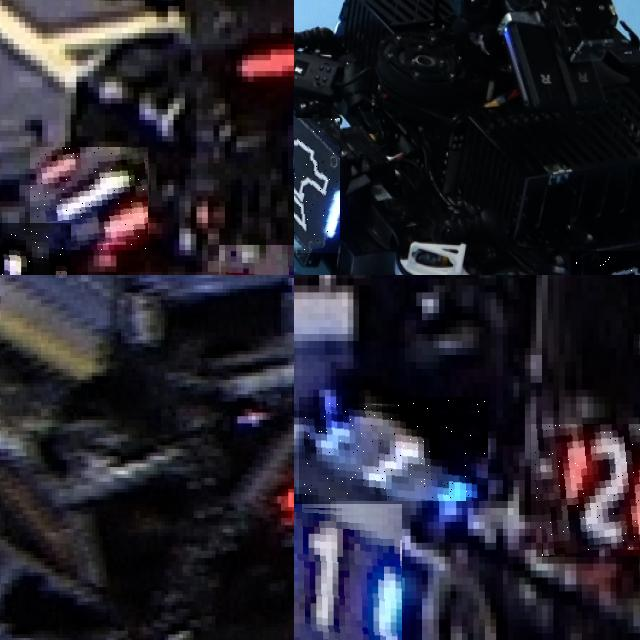B1: (299, 397, 488, 501), (294, 504, 401, 640)
Bs: (294, 118, 340, 253)
R1: (31, 147, 150, 250), (0, 222, 70, 275)
R2: (530, 424, 640, 556)
